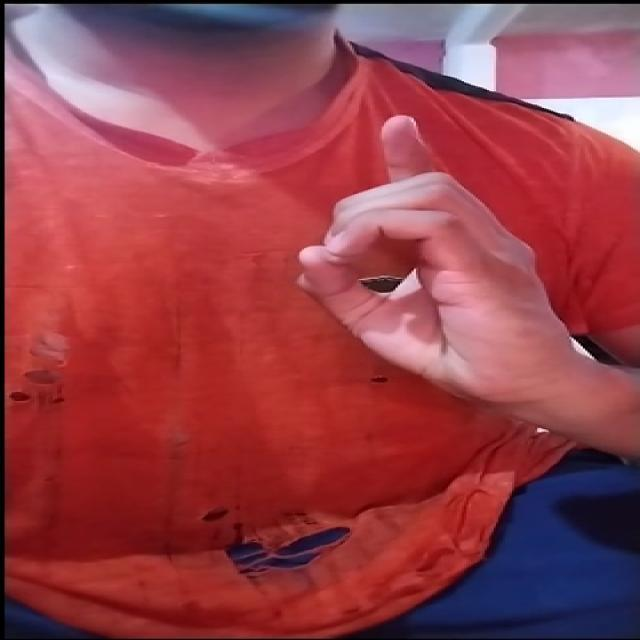D: (254, 99, 592, 422)
